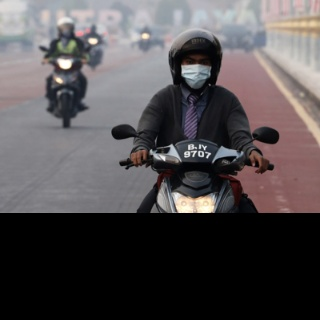with_mask: (181, 56, 212, 88)
